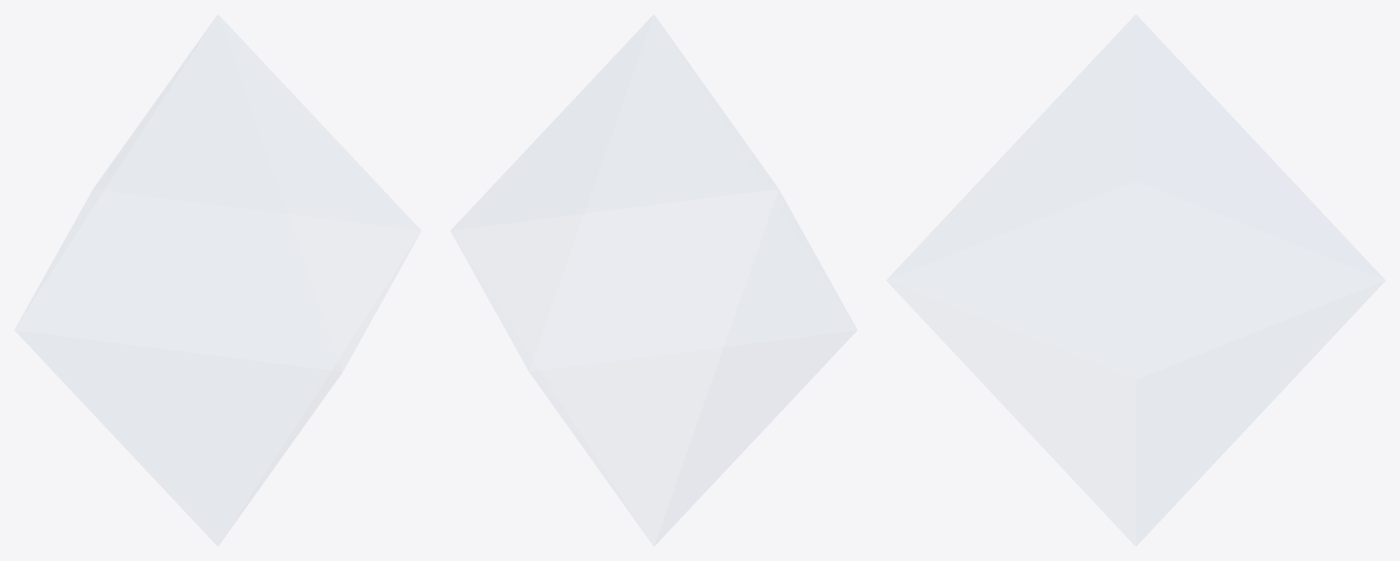
The model's file is octa_sky.glb.
3 views of the same model, side by side, from view 1: azimuth 30°, elevation 25°; view 2: azimuth 150°, elevation 25°; view 3: azimuth 270°, elevation 25° (orthographic).
Size of the model in its own units: 1.6 by 2 by 1.7.
